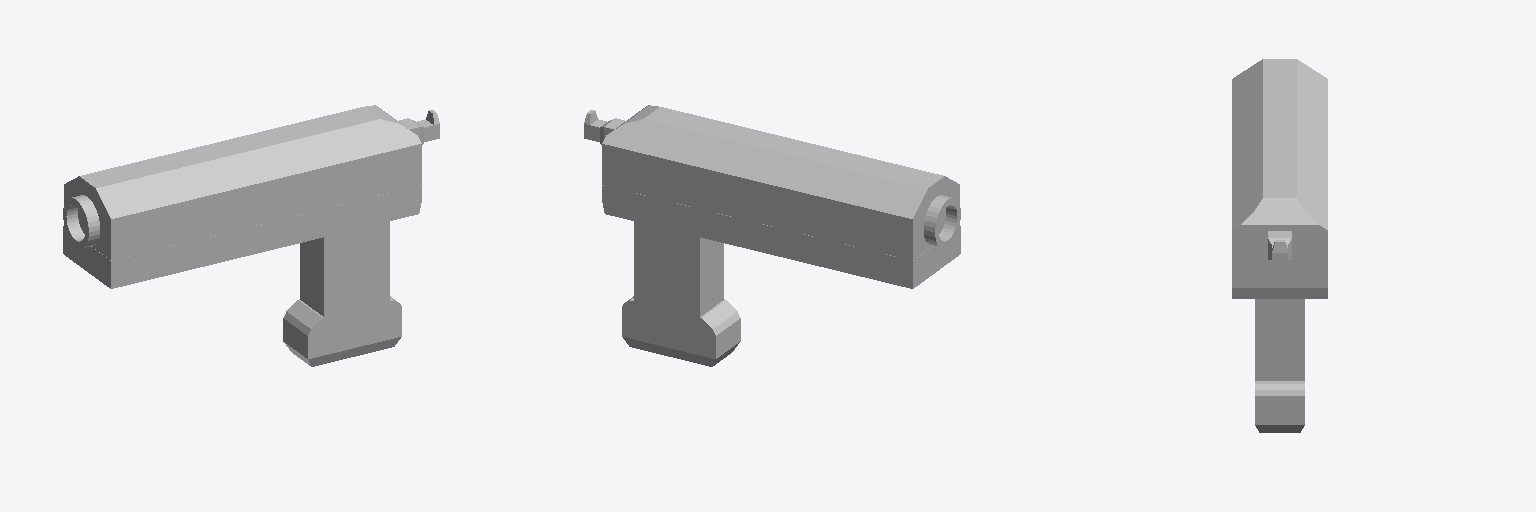
Rendered from pistol2.obj.
3 renders of one model, left to right at view 1: azimuth 30°, elevation 25°; view 2: azimuth 150°, elevation 25°; view 3: azimuth 270°, elevation 25°, orthographic.
Visible parts, largest first — view 1: Cube, Cube.002, Cube.001, Cylinder, Cube.003; view 2: Cube, Cube.002, Cube.001, Cylinder, Cube.003; view 3: Cube, Cube.002, Cube.001, Cube.003.
Part boxes in pixels (bbox=[...]): Cube: bbox=[64, 105, 421, 260]; Cube.002: bbox=[283, 221, 401, 366]; Cube.001: bbox=[63, 185, 421, 288]; Cylinder: bbox=[63, 195, 99, 248]; Cube.003: bbox=[398, 110, 439, 144]; Cube: bbox=[602, 105, 959, 260]; Cube.002: bbox=[622, 221, 740, 366]; Cube.001: bbox=[602, 185, 960, 288]; Cylinder: bbox=[924, 195, 960, 248]; Cube.003: bbox=[584, 110, 625, 144]; Cube: bbox=[1232, 59, 1327, 271]; Cube.002: bbox=[1255, 299, 1304, 432]; Cube.001: bbox=[1232, 272, 1327, 298]; Cube.003: bbox=[1268, 231, 1291, 266].
Size of the model in its own units: 7.51 by 4.58 by 1.72.